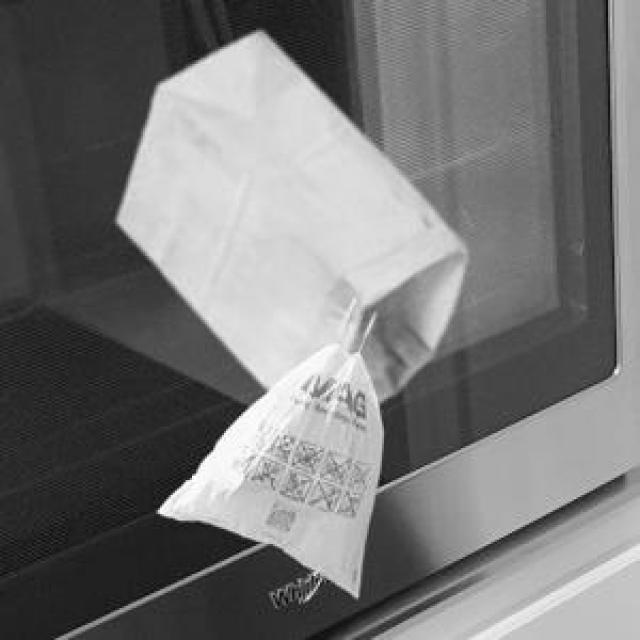paper: (113, 28, 461, 397)
